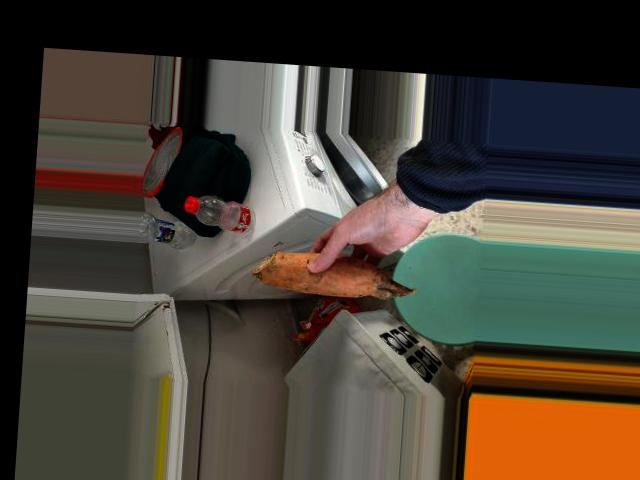sweet_potato: (263, 239, 419, 305)
